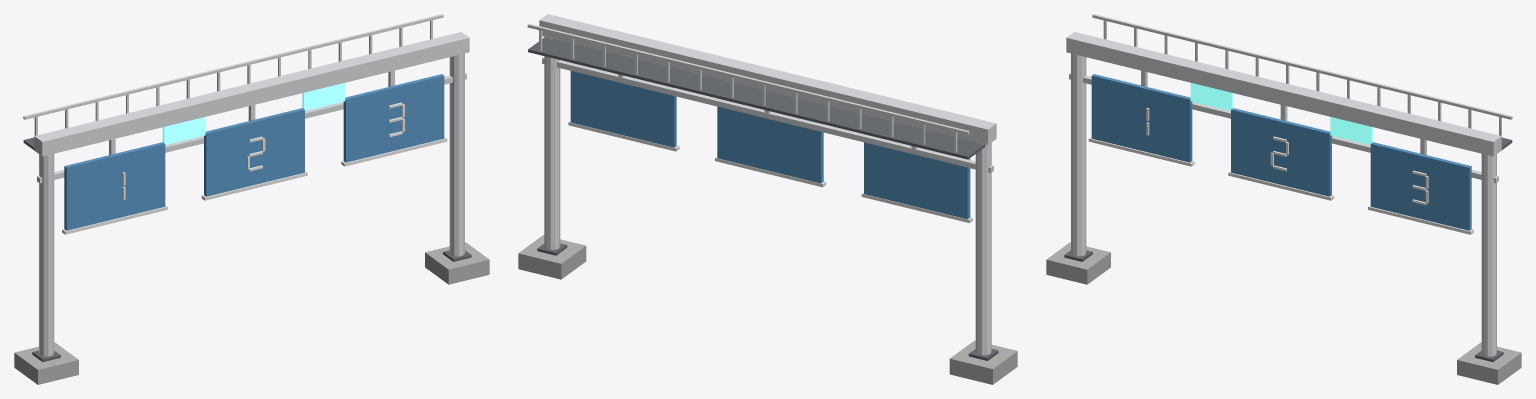
The model's file is ferry-terminal-and-harbour-crossing-ferry-terminal-and-47153d55__35640.glb.
3 renders of one model, left to right at view 1: azimuth 30°, elevation 25°; view 2: azimuth 150°, elevation 25°; view 3: azimuth 330°, elevation 25°, orthographic. The views are drawn at different scales.
Parts seen in each view (by area): view 1: ferry-terminal-and-harbour-crossing-lane-number-gantry; view 2: ferry-terminal-and-harbour-crossing-lane-number-gantry; view 3: ferry-terminal-and-harbour-crossing-lane-number-gantry.
Boxes of the visible parts, x1,y1,x2,y2 form: ferry-terminal-and-harbour-crossing-lane-number-gantry: [14, 14, 489, 384]; ferry-terminal-and-harbour-crossing-lane-number-gantry: [518, 14, 1017, 384]; ferry-terminal-and-harbour-crossing-lane-number-gantry: [1046, 14, 1521, 384].
Size of the model in its own units: 11 by 5.63 by 1.31.
6 materials, 1 textured.
